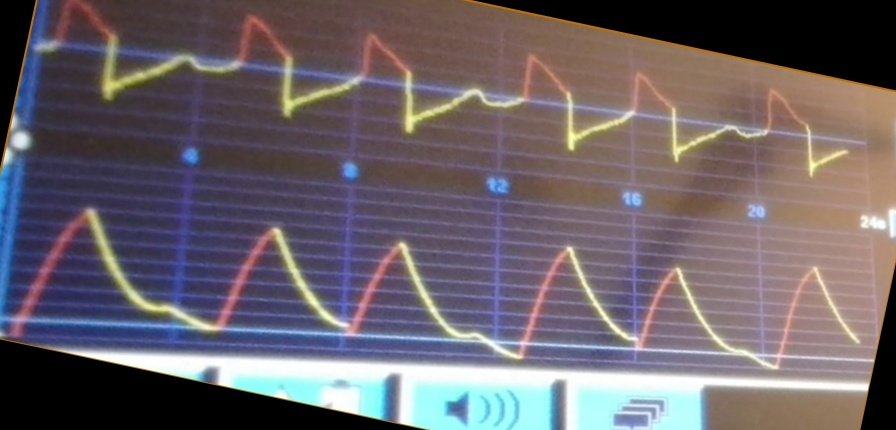Ineffective_effort Flow: (45, 3, 847, 175)
Ineffective_effort Volume: (13, 204, 857, 370)
